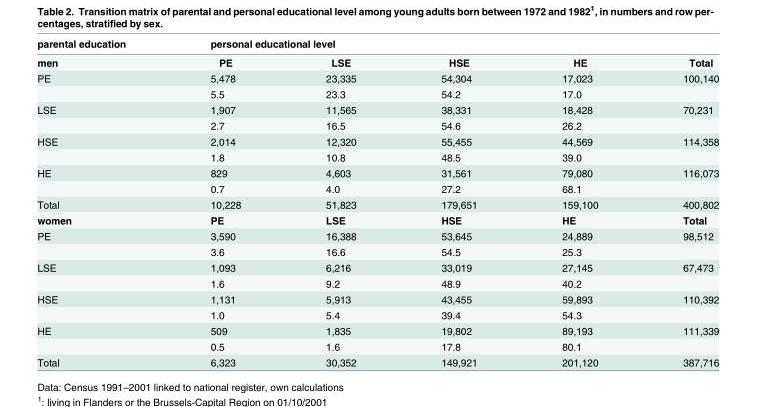table: (36, 37, 718, 367)
table column: (36, 37, 167, 367), (518, 37, 639, 367), (398, 37, 518, 367), (282, 37, 398, 367), (167, 37, 282, 367), (639, 37, 718, 367)
table column header: (36, 37, 718, 70)
table row: (36, 52, 718, 70), (36, 85, 718, 101), (36, 101, 718, 117), (36, 117, 718, 133), (36, 148, 718, 164), (36, 164, 718, 180), (36, 180, 718, 196), (36, 211, 718, 227), (36, 227, 718, 243), (36, 243, 718, 259), (36, 259, 718, 275), (36, 290, 718, 306), (36, 306, 718, 322), (36, 322, 718, 338), (36, 338, 718, 354), (36, 37, 718, 52), (36, 70, 718, 85), (36, 133, 718, 148), (36, 196, 718, 211), (36, 275, 718, 290), (36, 354, 718, 367)
table spanning cell: (167, 37, 639, 52), (36, 37, 167, 70), (36, 101, 167, 133), (36, 164, 167, 196), (36, 227, 167, 259), (36, 290, 167, 322), (36, 322, 167, 354), (36, 70, 167, 101), (36, 133, 167, 164), (36, 259, 167, 290), (639, 37, 718, 70)
